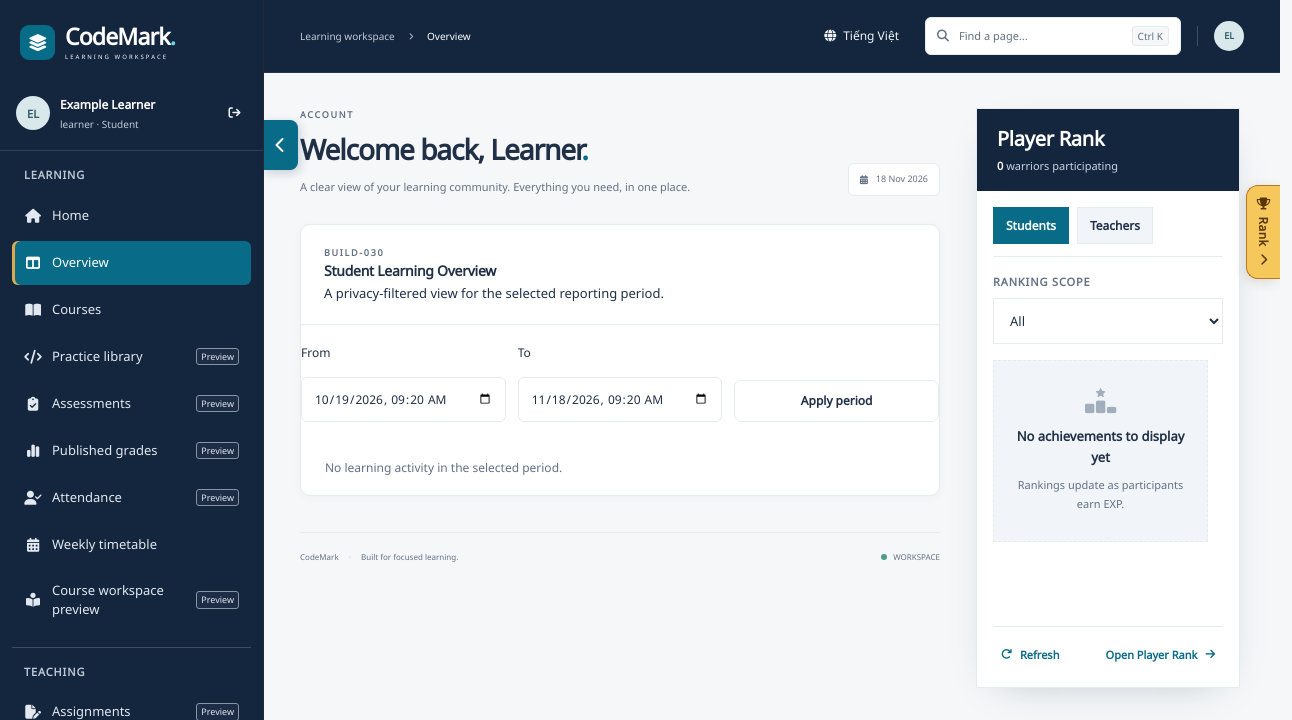
Test: Workspace shell and clearly isolated previews › selects a matching page from the field with the arrow keys and Enter
Type "Courses" into the dropdown labelled "Find a page…" at (1040, 36), box [959,18,1122,54]
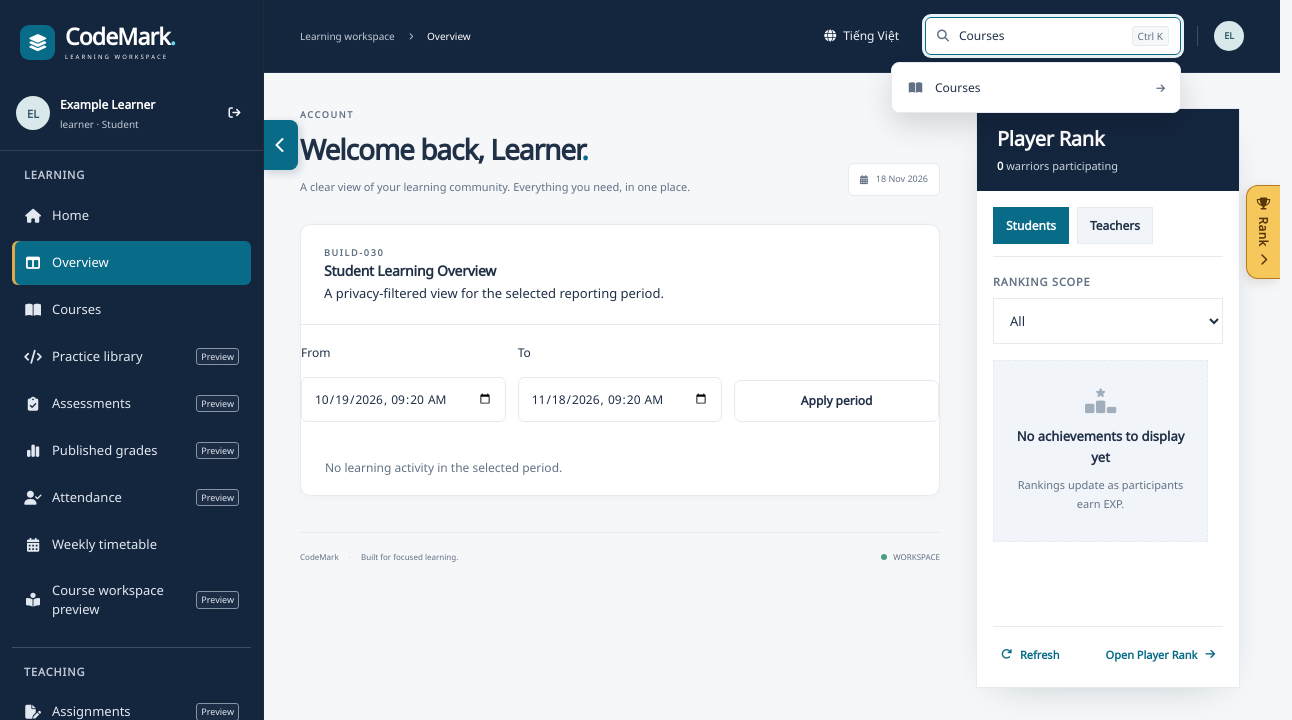
Press Arrowdown
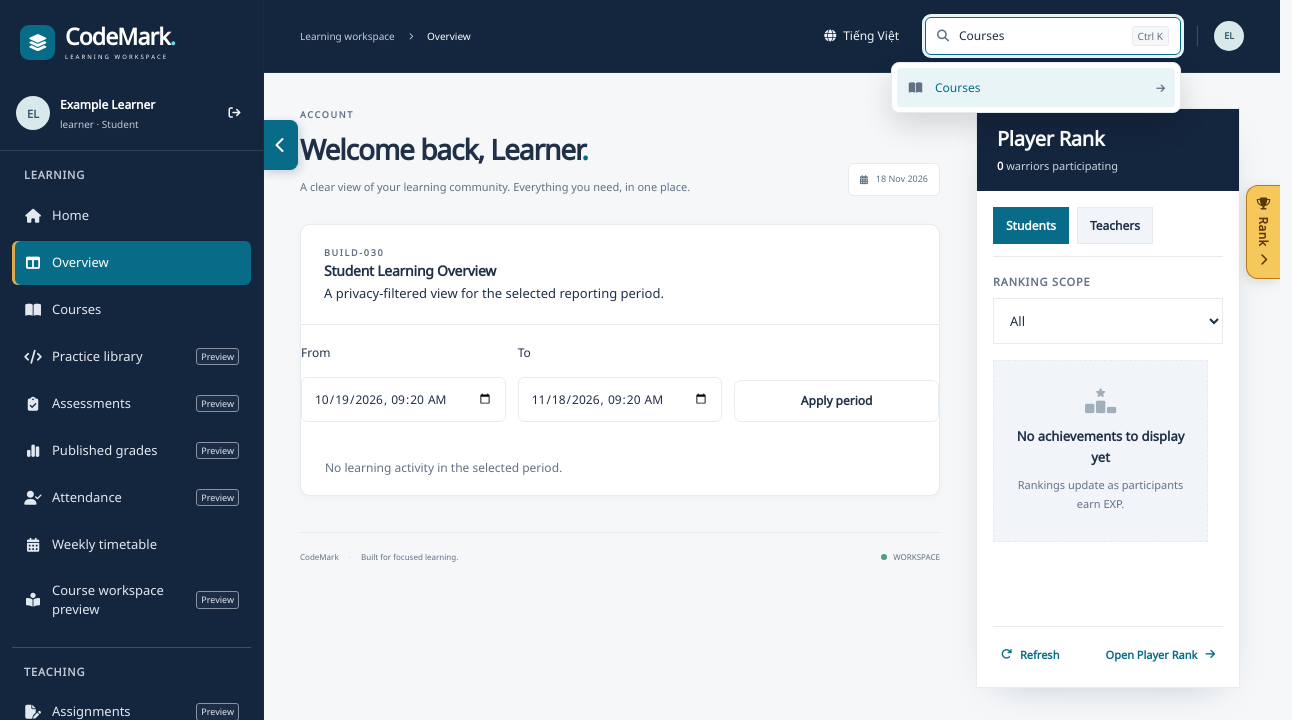
Press Enter
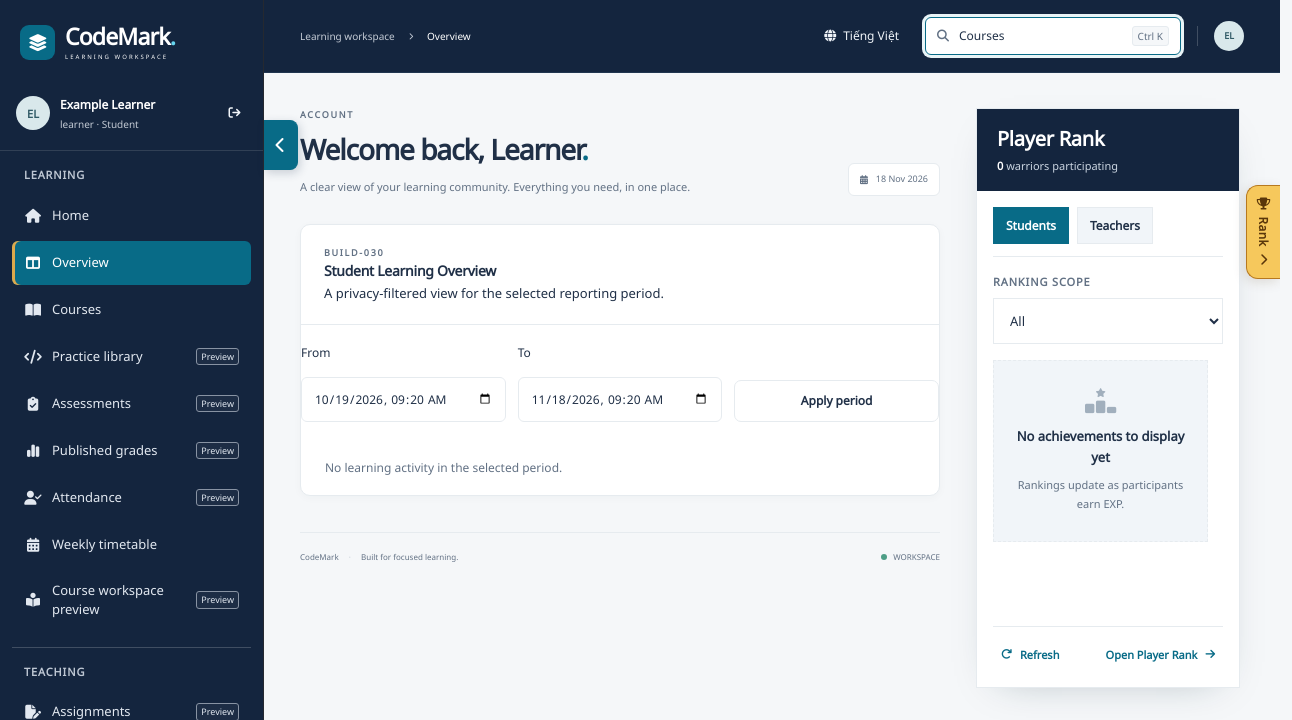
Now the list is gone
